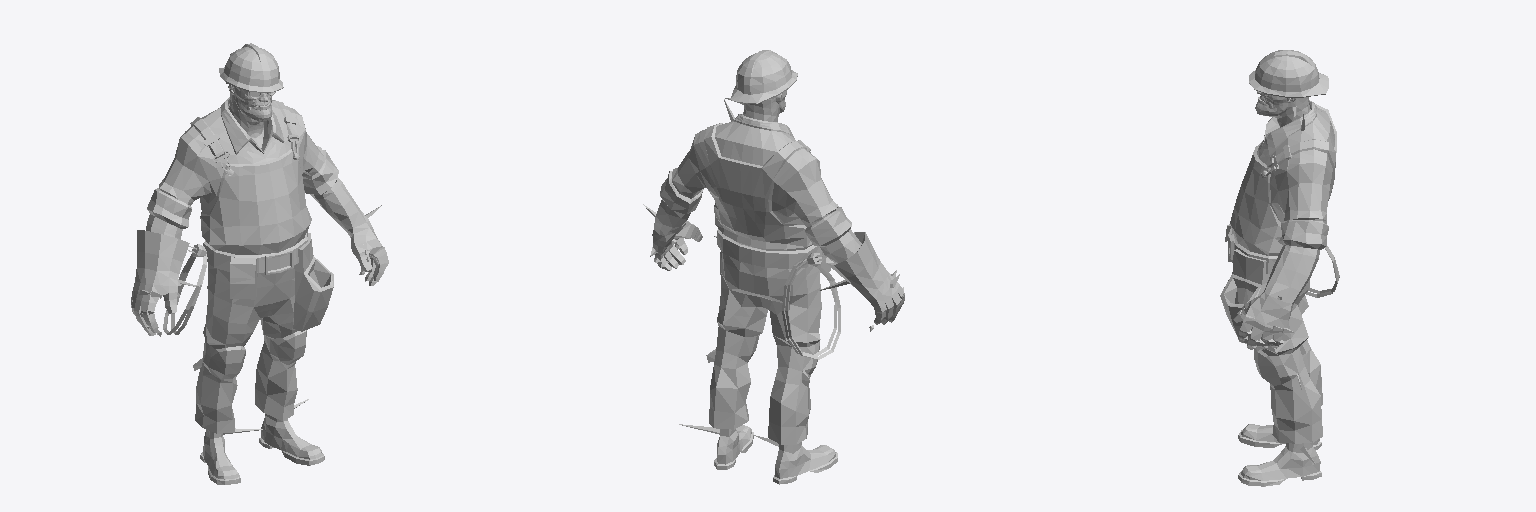
The model's file is engineer.obj.
3 renders of one model, left to right at view 1: azimuth 30°, elevation 25°; view 2: azimuth 150°, elevation 25°; view 3: azimuth 270°, elevation 25°, orthographic.
Visible parts, largest first — view 1: (null); view 2: (null); view 3: (null).
Boxes of the visible parts, <box> form: (null): <box>131,43,388,484</box>; (null): <box>643,50,904,484</box>; (null): <box>1220,50,1339,486</box>.
Size of the model in its own units: 50.34 by 78.77 by 20.81.